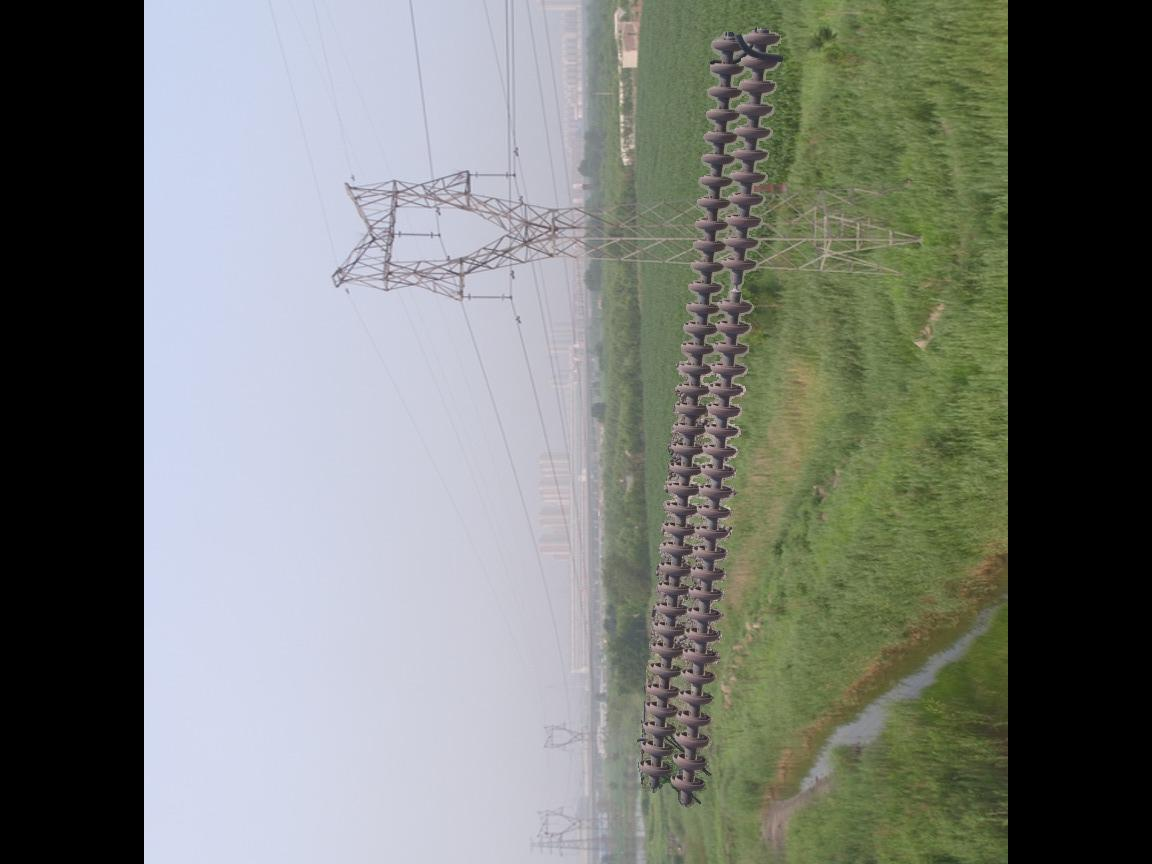insulator: (634, 25, 787, 806)
insulator_stringdrop: (714, 256, 760, 318)
